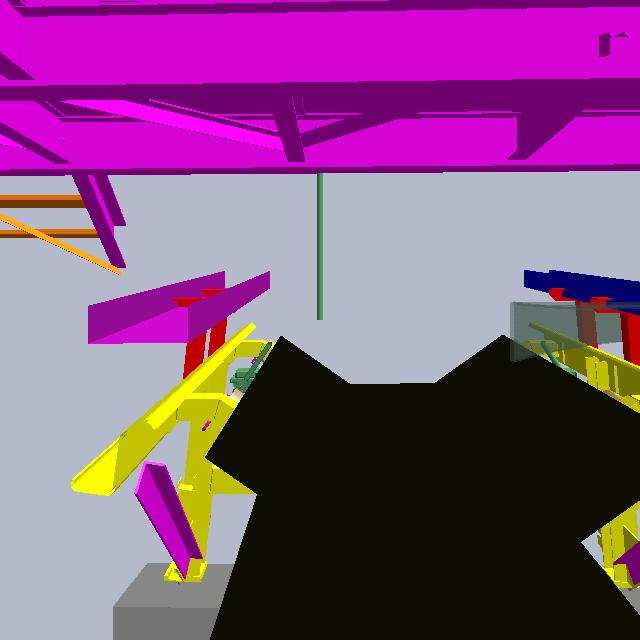Poste: (312, 32, 328, 320)
